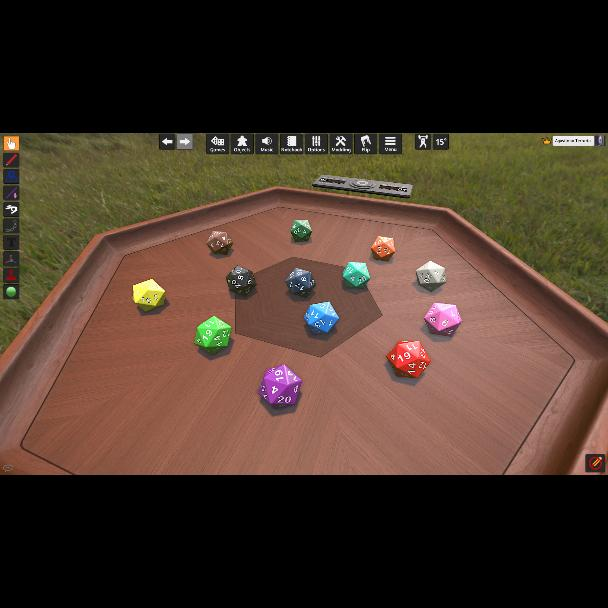d20: (258, 363, 302, 408), (386, 340, 423, 378), (424, 302, 461, 338), (196, 316, 230, 354), (132, 278, 166, 312), (307, 302, 339, 334), (225, 266, 255, 296), (286, 268, 316, 298), (417, 262, 447, 292), (342, 262, 368, 288), (370, 236, 394, 262), (205, 231, 230, 255), (290, 221, 313, 244)
